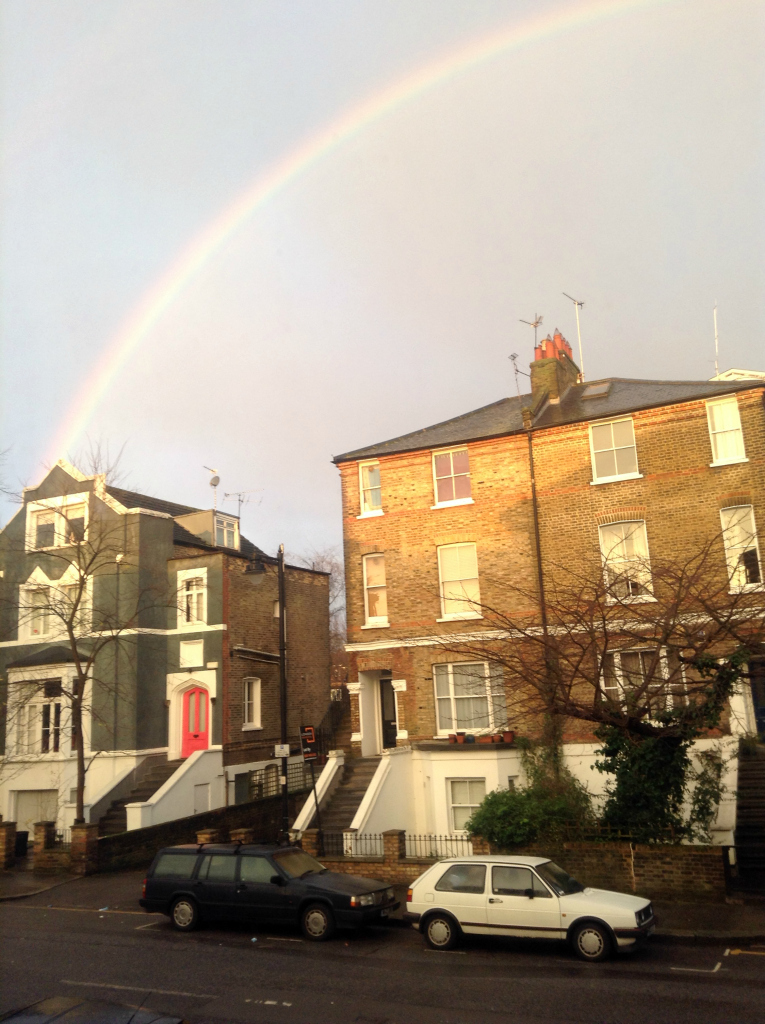Car: (135, 828, 390, 942), (401, 860, 641, 956)
